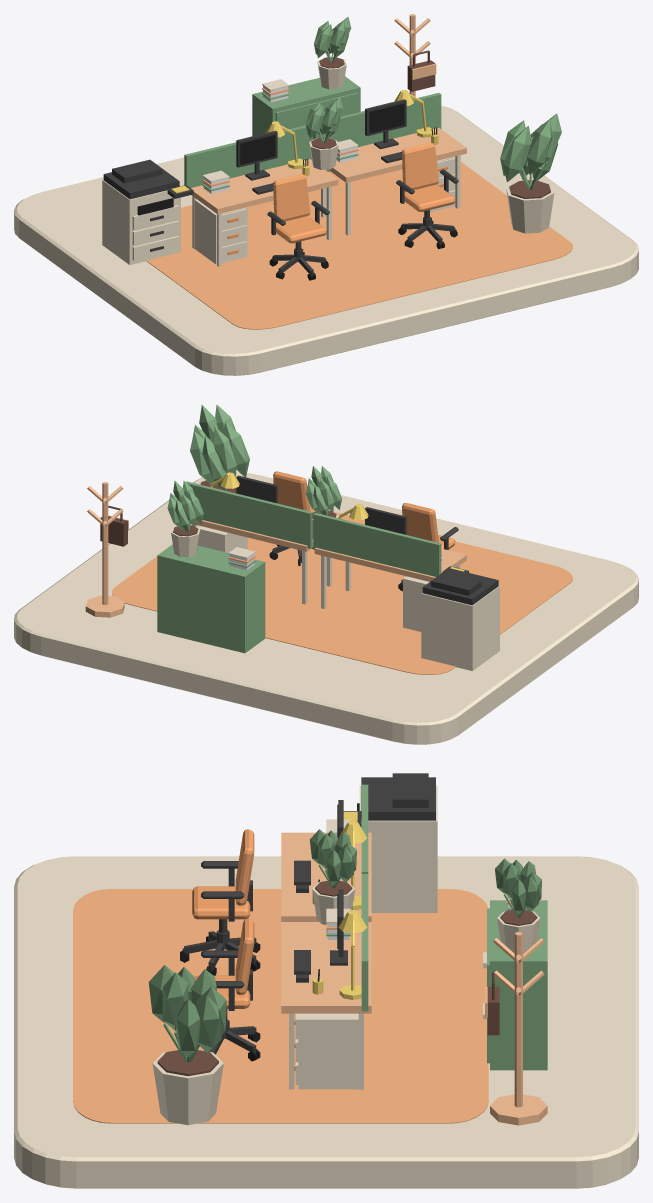
3 views of the same model, one above another, from view 1: azimuth 30°, elevation 25°; view 2: azimuth 150°, elevation 25°; view 3: azimuth 270°, elevation 25° (orthographic). The views are drawn at different scales.
Parts seen in each view (by area): view 1: AST-001-0, AST-002-0, AST-009-0, AST-010-2, AST-003-0, AST-003-1, AST-004-0, AST-004-1, AST-015-0, AST-013-0, AST-008-0, AST-013-1 (+9 smaller); view 2: AST-001-0, AST-002-0, AST-015-0, AST-009-0, AST-013-0, AST-013-1, AST-010-2, AST-010-1, AST-016-0, AST-004-0, AST-003-0, AST-010-0 (+8 smaller); view 3: AST-001-0, AST-002-0, AST-009-0, AST-010-2, AST-004-1, AST-015-0, AST-008-1, AST-003-0, AST-016-0, AST-004-0, AST-003-1, AST-010-1 (+6 smaller).
Boxes of the visible parts, <box> form: AST-001-0: <box>14,105,638,375</box>; AST-002-0: <box>146,162,572,329</box>; AST-009-0: <box>102,159,193,264</box>; AST-010-2: <box>500,113,561,233</box>; AST-003-0: <box>267,174,329,280</box>; AST-003-1: <box>396,142,458,249</box>; AST-004-0: <box>191,159,338,266</box>; AST-004-1: <box>321,127,466,235</box>; AST-015-0: <box>252,76,360,171</box>; AST-013-0: <box>184,125,312,187</box>; AST-008-0: <box>194,199,247,264</box>; AST-013-1: <box>313,93,441,147</box>; AST-001-0: <box>14,472,638,744</box>; AST-002-0: <box>112,511,572,674</box>; AST-015-0: <box>157,544,265,653</box>; AST-009-0: <box>421,566,499,670</box>; AST-013-0: <box>313,513,441,576</box>; AST-013-1: <box>186,481,312,548</box>; AST-010-2: <box>190,404,249,493</box>; AST-010-1: <box>167,480,203,557</box>; AST-016-0: <box>85,482,124,617</box>; AST-004-0: <box>314,547,466,608</box>; AST-003-0: <box>398,503,458,591</box>; AST-010-0: <box>305,466,341,538</box>; AST-001-0: <box>14,856,638,1188</box>; AST-002-0: <box>73,889,488,1123</box>; AST-009-0: <box>343,773,437,912</box>; AST-010-2: <box>148,965,226,1125</box>; AST-004-1: <box>281,922,371,1089</box>; AST-015-0: <box>483,900,547,1070</box>; AST-008-1: <box>294,1013,358,1089</box>; AST-003-0: <box>180,829,260,975</box>; AST-016-0: <box>490,932,547,1125</box>; AST-004-0: <box>281,832,371,921</box>; AST-003-1: <box>195,919,260,1061</box>; AST-010-1: <box>495,858,541,952</box>.
Size of the model in its own units: 6 by 2.16 by 5.2.
Materials: 1 (1 with a texture image).
